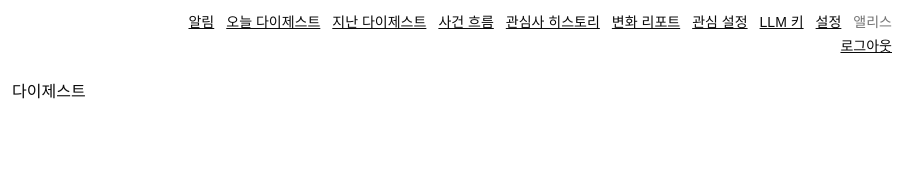
RequireSignIn › 로그아웃이 거부되면 로그인한 화면에 남아 알린다
This screenshot has width=910, height=172.
Click the button "로그아웃".
click(866, 46)  # box [840, 36, 892, 56]
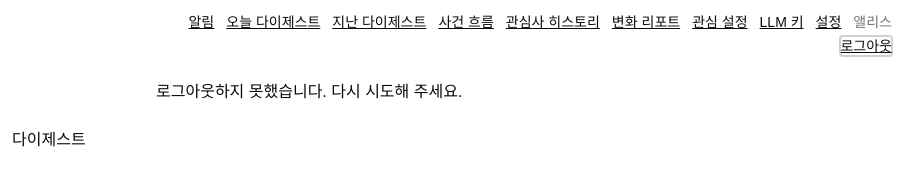
Expected: the text "다이제스트" is shown, [12, 131, 86, 148]
Result: the message reads "로그아웃하지 못했습니다. 다시 시도해 주세요." at [156, 83, 462, 100]
